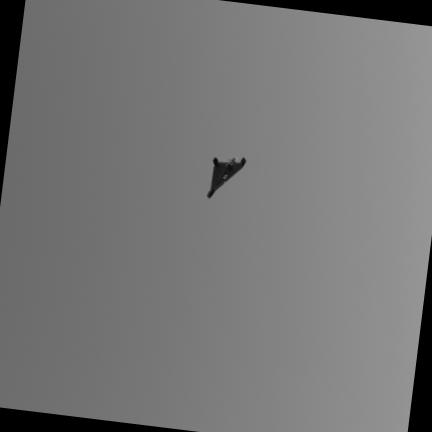Shahed: (207, 157, 244, 196)
